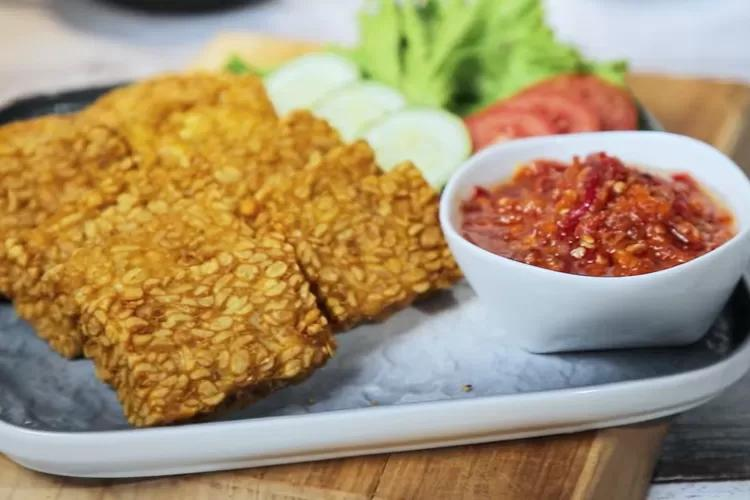buah_sayur_vitA: (531, 180, 684, 248)
kacang_legume: (13, 145, 347, 256), (111, 293, 301, 366)
